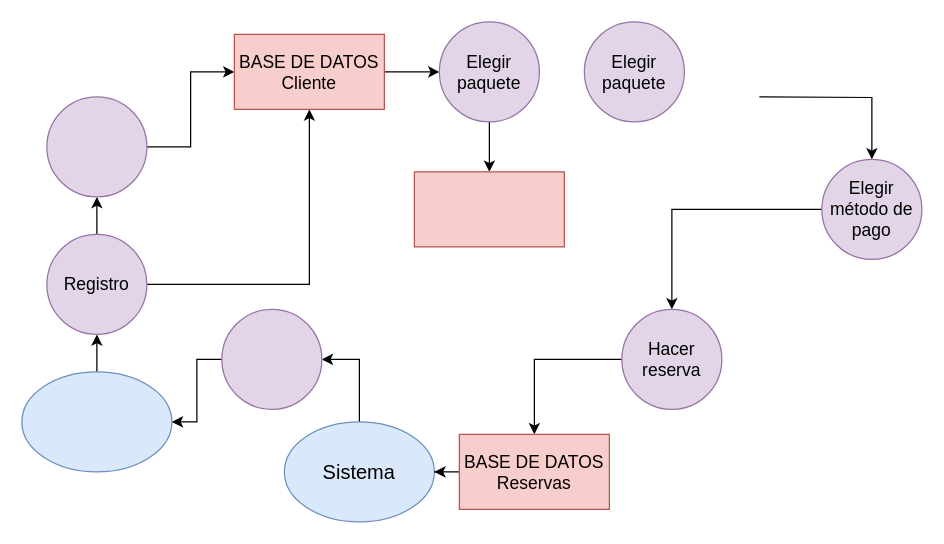
Image size: 944x544. Some labels were removed from this diagram. The shapes that lost their labels are listed below. From the top down, each one's centre as x and y in pixels, then its label:
At point (96, 146): "Inicio de Sesion".
At point (488, 209): "BASE DE DATOS Paquetes".
At point (271, 358): "Mostrar datos de reserva".
At point (96, 421): "Cliente".
